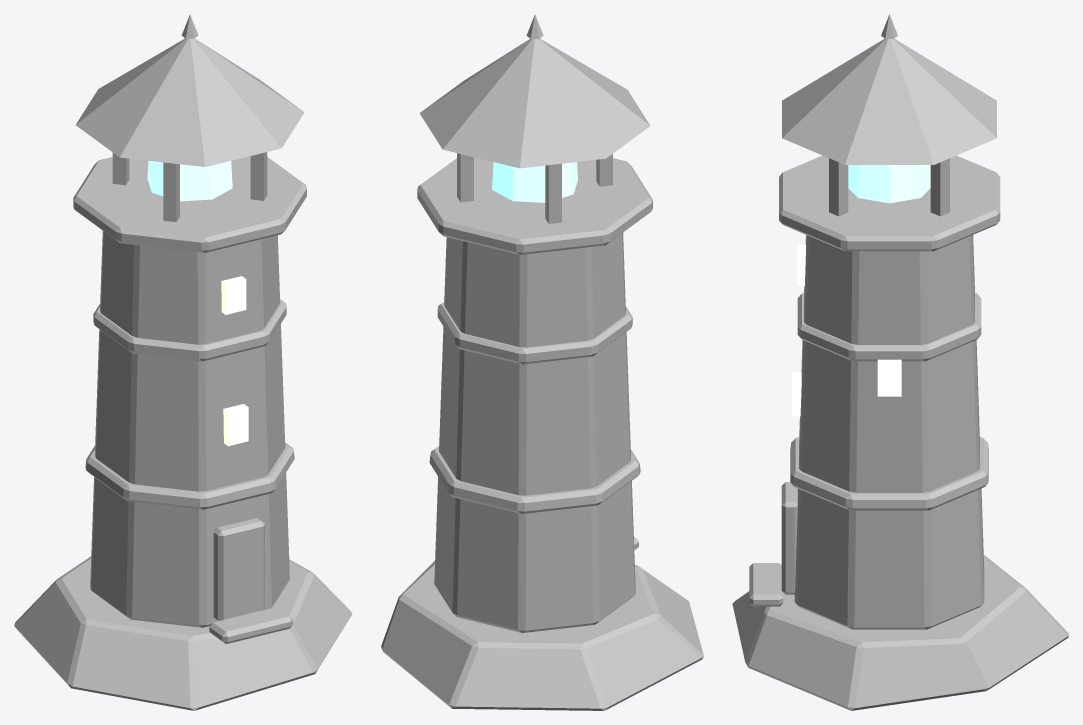
Rendered from d8_hermit_tower.gltf.
3 views of the same model, side by side, from view 1: azimuth 30°, elevation 25°; view 2: azimuth 150°, elevation 25°; view 3: azimuth 270°, elevation 25° (orthographic).
Visible parts, largest first — view 1: body, rock, roof, gallery, door, band_low, band_high, lantern, step, post_2, window_front, window_top (+1 smaller); view 2: body, rock, roof, gallery, band_low, band_high, lantern, post_1, post_0; view 3: body, rock, roof, gallery, band_low, band_high, lantern, door, step, post_3, post_0, window_side.
Boxes of the visible parts, x1,y1,x2,y2 form: body: (90,231,289,627); rock: (14,556,352,710); roof: (76,38,304,166); gallery: (73,156,306,252); door: (213,518,264,620); band_low: (85,442,294,509); band_high: (93,299,286,361); lantern: (147,160,232,201); step: (209,607,292,643); post_2: (163,162,179,221); window_front: (223,404,248,446); window_top: (221,276,246,314); body: (434,232,635,632); rock: (381,561,703,710); roof: (419,38,650,168); gallery: (417,157,652,254); band_low: (429,446,640,513); band_high: (437,302,632,364); lantern: (492,162,577,202); post_1: (545,163,561,223); post_0: (457,153,473,202); body: (794,235,984,629); rock: (732,555,1068,710); roof: (782,38,996,164); gallery: (779,155,1000,251); band_low: (790,437,988,510); band_high: (797,292,981,361); lantern: (848,165,930,203); door: (781,482,797,594); step: (749,563,783,606); post_3: (829,158,848,216); post_0: (930,158,949,216); window_side: (877,359,901,396).
Size of the model in its own units: 0.9746 by 2.02 by 0.9822.
